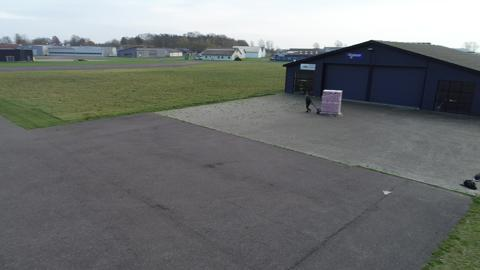RockwoolPallet: (321, 89, 344, 115)
